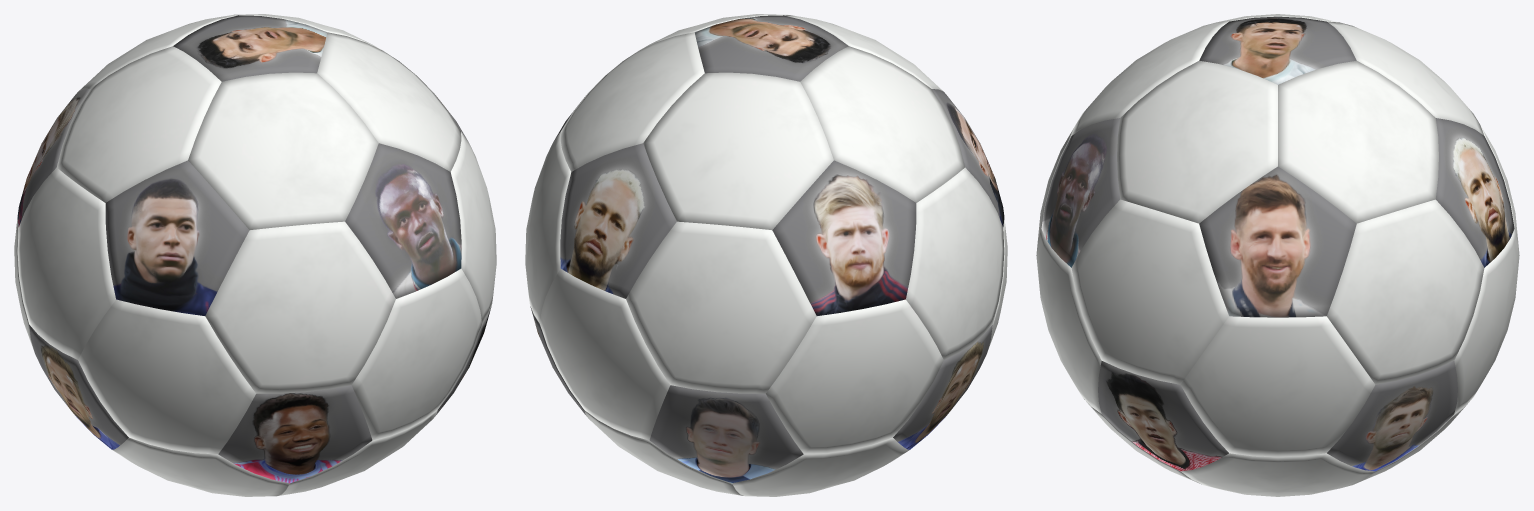
File: ball-02.gltf
3 views of the same model, side by side, from view 1: azimuth 30°, elevation 25°; view 2: azimuth 150°, elevation 25°; view 3: azimuth 270°, elevation 25° (orthographic).
Parts seen in each view (by area): view 1: Icosphere; view 2: Icosphere; view 3: Icosphere.
Boxes of the visible parts, bbox=[...] form: Icosphere: bbox=[14, 14, 496, 496]; Icosphere: bbox=[525, 14, 1007, 496]; Icosphere: bbox=[1036, 14, 1519, 496].
Size of the model in its own units: 0.22 by 0.22 by 0.22.
13 materials, 13 textured.
